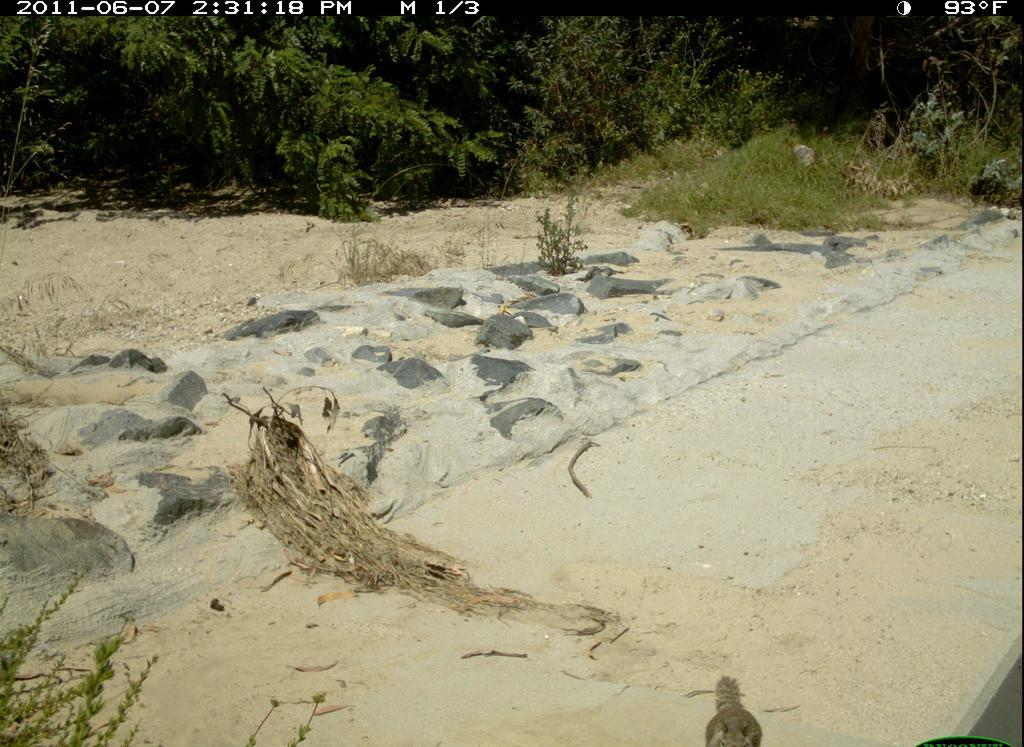squirrel: (696, 670, 771, 747)
